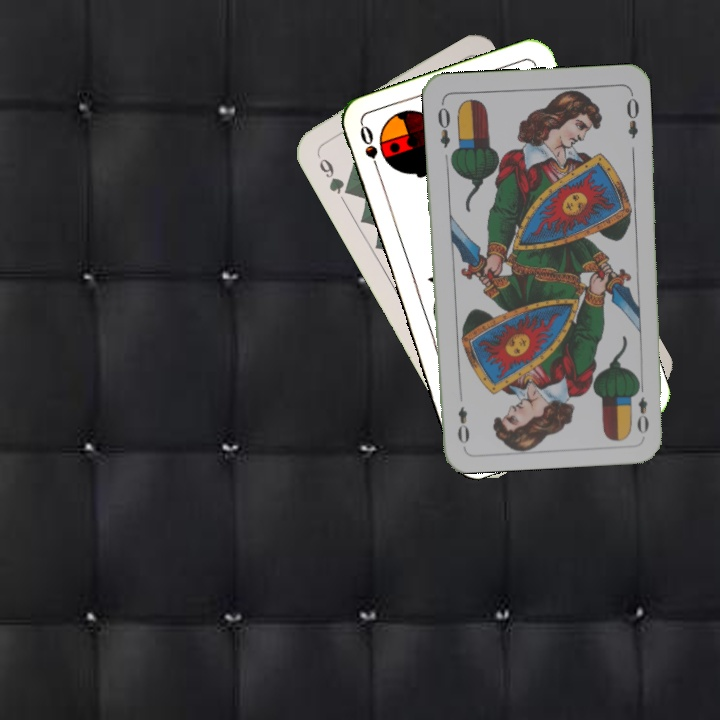EO: (631, 378, 651, 436), (433, 98, 453, 150)
G9: (312, 148, 355, 198)
SO: (356, 121, 384, 179)
